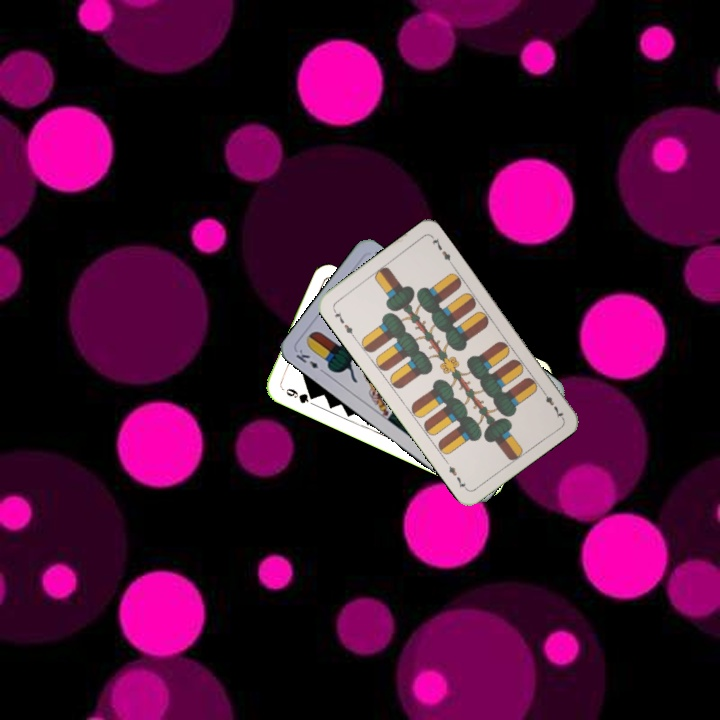E7: (537, 385, 566, 421), (329, 305, 357, 340)
EK: (292, 345, 328, 377)
G9: (282, 384, 318, 406)
